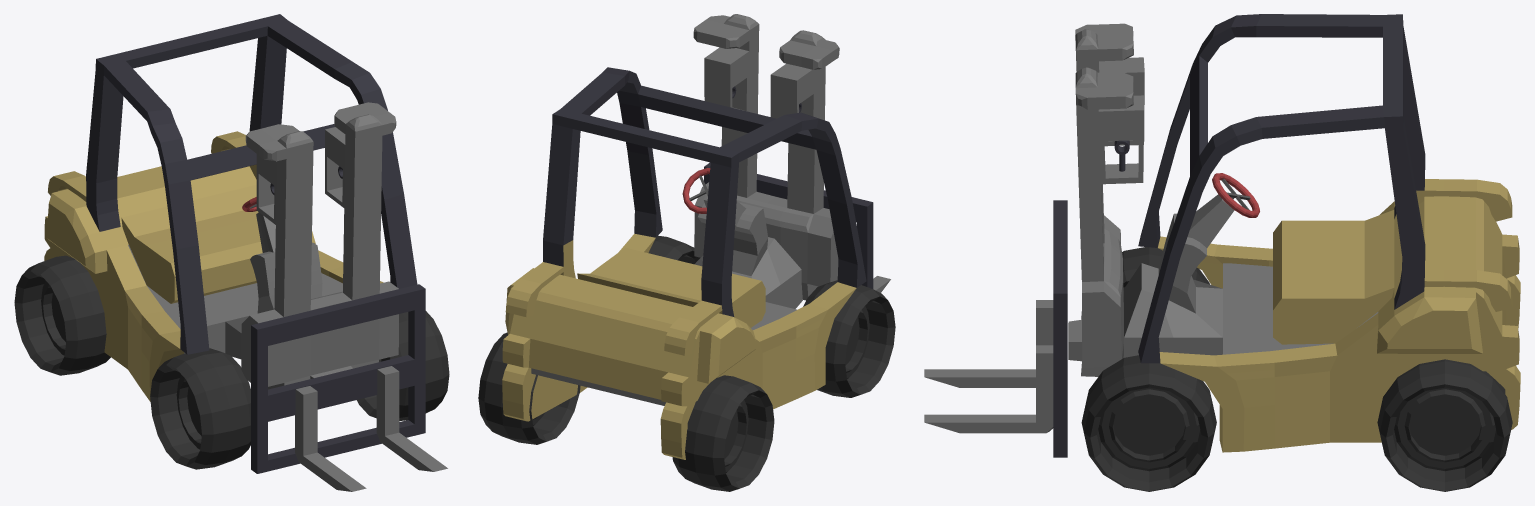
File: Forklift.fbx
3 renders of one model, left to right at view 1: azimuth 30°, elevation 25°; view 2: azimuth 150°, elevation 25°; view 3: azimuth 270°, elevation 25°, orthographic. The views are drawn at different scales.
Visible parts, largest first — view 1: Forklift_Seat, Forklift_Base, Cube.003, Tire.001, Tire.003, Tire.004, Cube.002, Cube.004; view 2: Forklift_Seat, Forklift_Base, Tire.003, Tire.001, Tire.002, Cube.003, Tire.004, Torus; view 3: Forklift_Seat, Forklift_Base, Tire.004, Tire.002, Cube.003, Cube.002, Cube.004, Tire.001, Torus.
Boxes of the visible parts, x1,y1,x2,y2 form: Forklift_Seat: (44,14,417,401); Forklift_Base: (128,102,398,389); Cube.003: (251,284,425,473); Tire.001: (150,348,250,469); Tire.003: (14,255,110,375); Tire.004: (357,311,449,421); Cube.002: (376,366,447,471); Cube.004: (295,386,366,491); Forklift_Seat: (502,67,866,459); Forklift_Base: (531,14,839,405); Tire.003: (672,375,774,491); Tire.001: (803,280,895,397); Tire.002: (478,332,580,444); Cube.003: (704,162,873,288); Tire.004: (648,235,700,264); Torus: (682,168,710,213); Forklift_Seat: (1138,14,1520,452); Forklift_Base: (1068,23,1378,376); Tire.004: (1081,355,1216,491); Tire.002: (1377,359,1512,491); Cube.003: (1053,200,1067,457); Cube.002: (924,345,1053,433); Cube.004: (924,300,1053,387); Tire.001: (1122,247,1209,301); Torus: (1212,173,1259,217).
Size of the model in its own units: 280 by 355 by 504.
